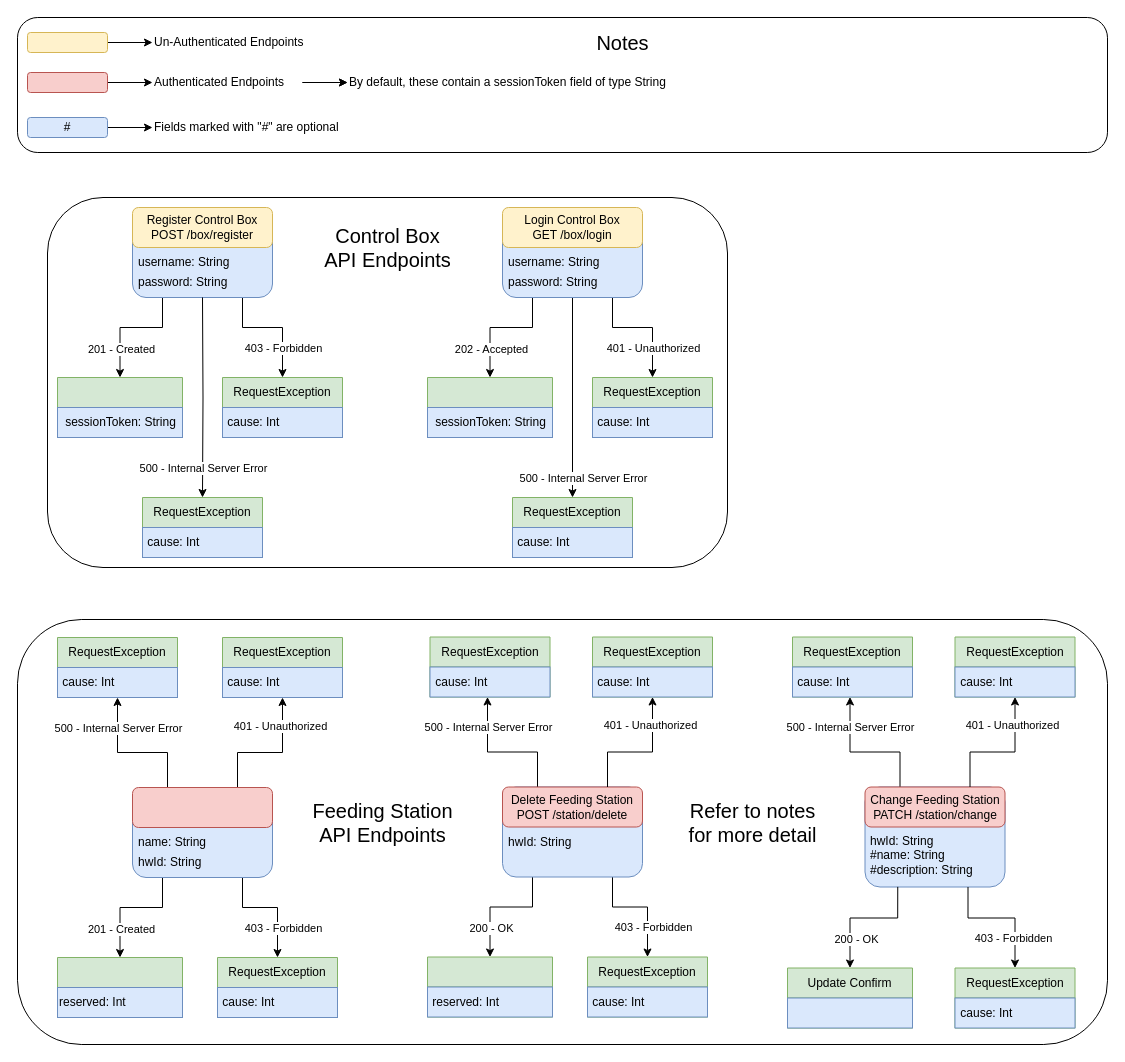
The diagram is 1125 pixels wide and 1062 high, and some of its shapes have lost their labels. Here are the shapes that lost their labels. From the top down, the box of each, then its label:
(56, 376, 182, 438): RegisterConfirm
(426, 376, 552, 438): LoginConfirm
(132, 786, 272, 828): Create Feeding Station POST /station/create
(56, 956, 182, 1018): CreateConfirm
(426, 956, 552, 1017): DeleteConfirm
(786, 997, 912, 1028): updates: Int
